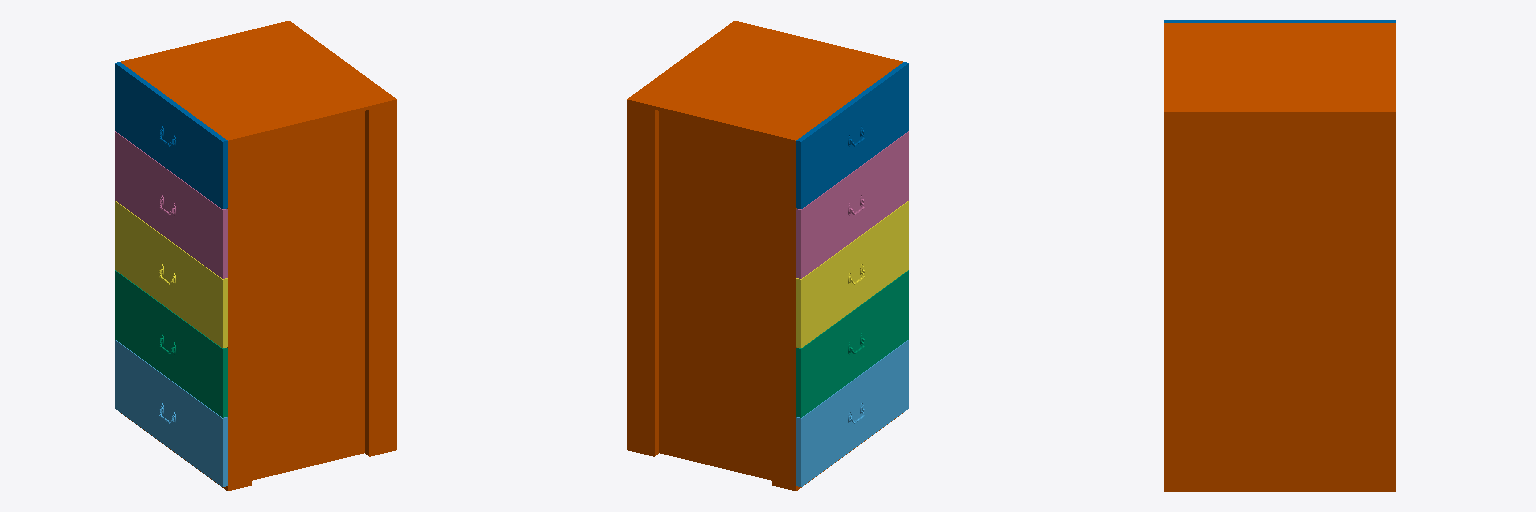
--- What the picture shows (computed from the rendered views, not written in the file) ---
Views: 3 orthographic renders of the robot side by side, from view 1: azimuth 30°, elevation 25°; view 2: azimuth 150°, elevation 25°; view 3: azimuth 270°, elevation 25°.
Model partnet_b50c25e6b5447714e90f8ac2c1271ce3 with 7 links and 6 joints (5 prismatic, 1 fixed), rooted at base, posed every joint at zero.
Links seen in each view (by area): view 1: link_4, link_3, link_5, link_0, link_2, link_1; view 2: link_4, link_3, link_5, link_0, link_2, link_1; view 3: link_4, link_3.
Boxes of the visible links, x1=… form: link_4: x1=121, y1=21, x2=396, y2=490; link_3: x1=115, y1=62, x2=227, y2=208; link_5: x1=115, y1=131, x2=227, y2=278; link_0: x1=115, y1=340, x2=227, y2=486; link_2: x1=115, y1=201, x2=227, y2=347; link_1: x1=115, y1=270, x2=227, y2=417; link_4: x1=627, y1=21, x2=902, y2=490; link_3: x1=796, y1=62, x2=908, y2=208; link_5: x1=796, y1=131, x2=908, y2=278; link_0: x1=796, y1=340, x2=908, y2=486; link_2: x1=796, y1=201, x2=908, y2=347; link_1: x1=796, y1=270, x2=908, y2=417; link_4: x1=1164, y1=23, x2=1395, y2=491; link_3: x1=1164, y1=20, x2=1395, y2=22.
Size in the robot's own frame: 0.8718 by 0.9086 by 1.63 metres.
66 mesh visuals loaded from 66 distinct referenced files (66 OBJ).

The robot description file, URDF, robot "partnet_b50c25e6b5447714e90f8ac2c1271ce3":
<?xml version="1.0" ?>
<robot name="partnet_b50c25e6b5447714e90f8ac2c1271ce3">
	<link name="base"/>
	<link name="link_0">
		<visual name="drawer_front-51">
			<origin xyz="0 0 0"/>
			<geometry>
				<mesh filename="package://objects_description/storage2/textured_objs/original-62.obj"/>
			</geometry>
		</visual>
		<visual name="drawer_front-51">
			<origin xyz="0 0 0"/>
			<geometry>
				<mesh filename="package://objects_description/storage2/textured_objs/original-58.obj"/>
			</geometry>
		</visual>
		<visual name="drawer_front-51">
			<origin xyz="0 0 0"/>
			<geometry>
				<mesh filename="package://objects_description/storage2/textured_objs/original-59.obj"/>
			</geometry>
		</visual>
		<visual name="drawer_side-52">
			<origin xyz="0 0 0"/>
			<geometry>
				<mesh filename="package://objects_description/storage2/textured_objs/original-63.obj"/>
			</geometry>
		</visual>
		<visual name="drawer_side-53">
			<origin xyz="0 0 0"/>
			<geometry>
				<mesh filename="package://objects_description/storage2/textured_objs/original-60.obj"/>
			</geometry>
		</visual>
		<visual name="drawer_back-54">
			<origin xyz="0 0 0"/>
			<geometry>
				<mesh filename="package://objects_description/storage2/textured_objs/original-61.obj"/>
			</geometry>
		</visual>
		<visual name="drawer_bottom-55">
			<origin xyz="0 0 0"/>
			<geometry>
				<mesh filename="package://objects_description/storage2/textured_objs/original-64.obj"/>
			</geometry>
		</visual>
		<visual name="handle-48">
			<origin xyz="0 0 0"/>
			<geometry>
				<mesh filename="package://objects_description/storage2/textured_objs/original-78.obj"/>
			</geometry>
		</visual>
		<visual name="handle-48">
			<origin xyz="0 0 0"/>
			<geometry>
				<mesh filename="package://objects_description/storage2/textured_objs/original-79.obj"/>
			</geometry>
		</visual>
		<collision>
			<origin xyz="0 0 0"/>
			<geometry>
				<mesh filename="package://objects_description/storage2/textured_objs/original-62.obj"/>
			</geometry>
		</collision>
		<collision>
			<origin xyz="0 0 0"/>
			<geometry>
				<mesh filename="package://objects_description/storage2/textured_objs/original-58.obj"/>
			</geometry>
		</collision>
		<collision>
			<origin xyz="0 0 0"/>
			<geometry>
				<mesh filename="package://objects_description/storage2/textured_objs/original-59.obj"/>
			</geometry>
		</collision>
		<collision>
			<origin xyz="0 0 0"/>
			<geometry>
				<mesh filename="package://objects_description/storage2/textured_objs/original-63.obj"/>
			</geometry>
		</collision>
		<collision>
			<origin xyz="0 0 0"/>
			<geometry>
				<mesh filename="package://objects_description/storage2/textured_objs/original-60.obj"/>
			</geometry>
		</collision>
		<collision>
			<origin xyz="0 0 0"/>
			<geometry>
				<mesh filename="package://objects_description/storage2/textured_objs/original-61.obj"/>
			</geometry>
		</collision>
		<collision>
			<origin xyz="0 0 0"/>
			<geometry>
				<mesh filename="package://objects_description/storage2/textured_objs/original-64.obj"/>
			</geometry>
		</collision>
		<collision>
			<origin xyz="0 0 0"/>
			<geometry>
				<mesh filename="package://objects_description/storage2/textured_objs/original-78.obj"/>
			</geometry>
		</collision>
		<collision>
			<origin xyz="0 0 0"/>
			<geometry>
				<mesh filename="package://objects_description/storage2/textured_objs/original-79.obj"/>
			</geometry>
		</collision>
	</link>
	<joint name="joint_0" type="prismatic">
		<origin xyz="0 0 0"/>
		<axis xyz="0 0 1"/>
		<child link="link_0"/>
		<parent link="link_4"/>
		<limit lower="0" upper="0.5"/>
	</joint>
	<link name="link_1">
		<visual name="drawer_front-42">
			<origin xyz="0 0 0"/>
			<geometry>
				<mesh filename="package://objects_description/storage2/textured_objs/original-54.obj"/>
			</geometry>
		</visual>
		<visual name="drawer_front-42">
			<origin xyz="0 0 0"/>
			<geometry>
				<mesh filename="package://objects_description/storage2/textured_objs/original-50.obj"/>
			</geometry>
		</visual>
		<visual name="drawer_front-42">
			<origin xyz="0 0 0"/>
			<geometry>
				<mesh filename="package://objects_description/storage2/textured_objs/original-51.obj"/>
			</geometry>
		</visual>
		<visual name="drawer_side-43">
			<origin xyz="0 0 0"/>
			<geometry>
				<mesh filename="package://objects_description/storage2/textured_objs/original-55.obj"/>
			</geometry>
		</visual>
		<visual name="drawer_side-44">
			<origin xyz="0 0 0"/>
			<geometry>
				<mesh filename="package://objects_description/storage2/textured_objs/original-52.obj"/>
			</geometry>
		</visual>
		<visual name="drawer_back-45">
			<origin xyz="0 0 0"/>
			<geometry>
				<mesh filename="package://objects_description/storage2/textured_objs/original-53.obj"/>
			</geometry>
		</visual>
		<visual name="drawer_bottom-46">
			<origin xyz="0 0 0"/>
			<geometry>
				<mesh filename="package://objects_description/storage2/textured_objs/original-56.obj"/>
			</geometry>
		</visual>
		<visual name="handle-39">
			<origin xyz="0 0 0"/>
			<geometry>
				<mesh filename="package://objects_description/storage2/textured_objs/original-75.obj"/>
			</geometry>
		</visual>
		<visual name="handle-39">
			<origin xyz="0 0 0"/>
			<geometry>
				<mesh filename="package://objects_description/storage2/textured_objs/original-76.obj"/>
			</geometry>
		</visual>
		<visual name="drawer_rails-40">
			<origin xyz="0 0 0"/>
			<geometry>
				<mesh filename="package://objects_description/storage2/textured_objs/original-37.obj"/>
			</geometry>
		</visual>
		<visual name="drawer_rails-41">
			<origin xyz="0 0 0"/>
			<geometry>
				<mesh filename="package://objects_description/storage2/textured_objs/original-25.obj"/>
			</geometry>
		</visual>
		<collision>
			<origin xyz="0 0 0"/>
			<geometry>
				<mesh filename="package://objects_description/storage2/textured_objs/original-54.obj"/>
			</geometry>
		</collision>
		<collision>
			<origin xyz="0 0 0"/>
			<geometry>
				<mesh filename="package://objects_description/storage2/textured_objs/original-50.obj"/>
			</geometry>
		</collision>
		<collision>
			<origin xyz="0 0 0"/>
			<geometry>
				<mesh filename="package://objects_description/storage2/textured_objs/original-51.obj"/>
			</geometry>
		</collision>
		<collision>
			<origin xyz="0 0 0"/>
			<geometry>
				<mesh filename="package://objects_description/storage2/textured_objs/original-55.obj"/>
			</geometry>
		</collision>
		<collision>
			<origin xyz="0 0 0"/>
			<geometry>
				<mesh filename="package://objects_description/storage2/textured_objs/original-52.obj"/>
			</geometry>
		</collision>
		<collision>
			<origin xyz="0 0 0"/>
			<geometry>
				<mesh filename="package://objects_description/storage2/textured_objs/original-53.obj"/>
			</geometry>
		</collision>
		<collision>
			<origin xyz="0 0 0"/>
			<geometry>
				<mesh filename="package://objects_description/storage2/textured_objs/original-56.obj"/>
			</geometry>
		</collision>
		<collision>
			<origin xyz="0 0 0"/>
			<geometry>
				<mesh filename="package://objects_description/storage2/textured_objs/original-75.obj"/>
			</geometry>
		</collision>
		<collision>
			<origin xyz="0 0 0"/>
			<geometry>
				<mesh filename="package://objects_description/storage2/textured_objs/original-76.obj"/>
			</geometry>
		</collision>
		<collision>
			<origin xyz="0 0 0"/>
			<geometry>
				<mesh filename="package://objects_description/storage2/textured_objs/original-37.obj"/>
			</geometry>
		</collision>
		<collision>
			<origin xyz="0 0 0"/>
			<geometry>
				<mesh filename="package://objects_description/storage2/textured_objs/original-25.obj"/>
			</geometry>
		</collision>
	</link>
	<joint name="joint_1" type="prismatic">
		<origin xyz="0 0 0"/>
		<axis xyz="0 0 1"/>
		<child link="link_1"/>
		<parent link="link_4"/>
		<limit lower="0" upper="0.5"/>
	</joint>
	<link name="link_2">
		<visual name="drawer_front-33">
			<origin xyz="0 0 0"/>
			<geometry>
				<mesh filename="package://objects_description/storage2/textured_objs/original-46.obj"/>
			</geometry>
		</visual>
		<visual name="drawer_front-33">
			<origin xyz="0 0 0"/>
			<geometry>
				<mesh filename="package://objects_description/storage2/textured_objs/original-43.obj"/>
			</geometry>
		</visual>
		<visual name="drawer_front-33">
			<origin xyz="0 0 0"/>
			<geometry>
				<mesh filename="package://objects_description/storage2/textured_objs/original-42.obj"/>
			</geometry>
		</visual>
		<visual name="drawer_side-34">
			<origin xyz="0 0 0"/>
			<geometry>
				<mesh filename="package://objects_description/storage2/textured_objs/original-47.obj"/>
			</geometry>
		</visual>
		<visual name="drawer_side-35">
			<origin xyz="0 0 0"/>
			<geometry>
				<mesh filename="package://objects_description/storage2/textured_objs/original-44.obj"/>
			</geometry>
		</visual>
		<visual name="drawer_back-36">
			<origin xyz="0 0 0"/>
			<geometry>
				<mesh filename="package://objects_description/storage2/textured_objs/original-45.obj"/>
			</geometry>
		</visual>
		<visual name="drawer_bottom-37">
			<origin xyz="0 0 0"/>
			<geometry>
				<mesh filename="package://objects_description/storage2/textured_objs/original-48.obj"/>
			</geometry>
		</visual>
		<visual name="handle-30">
			<origin xyz="0 0 0"/>
			<geometry>
				<mesh filename="package://objects_description/storage2/textured_objs/original-72.obj"/>
			</geometry>
		</visual>
		<visual name="handle-30">
			<origin xyz="0 0 0"/>
			<geometry>
				<mesh filename="package://objects_description/storage2/textured_objs/original-73.obj"/>
			</geometry>
		</visual>
		<visual name="drawer_rails-31">
			<origin xyz="0 0 0"/>
			<geometry>
				<mesh filename="package://objects_description/storage2/textured_objs/original-38.obj"/>
			</geometry>
		</visual>
		<visual name="drawer_rails-32">
			<origin xyz="0 0 0"/>
			<geometry>
				<mesh filename="package://objects_description/storage2/textured_objs/original-26.obj"/>
			</geometry>
		</visual>
		<collision>
			<origin xyz="0 0 0"/>
			<geometry>
				<mesh filename="package://objects_description/storage2/textured_objs/original-46.obj"/>
			</geometry>
		</collision>
		<collision>
			<origin xyz="0 0 0"/>
			<geometry>
				<mesh filename="package://objects_description/storage2/textured_objs/original-43.obj"/>
			</geometry>
		</collision>
		<collision>
			<origin xyz="0 0 0"/>
			<geometry>
				<mesh filename="package://objects_description/storage2/textured_objs/original-42.obj"/>
			</geometry>
		</collision>
		<collision>
			<origin xyz="0 0 0"/>
			<geometry>
				<mesh filename="package://objects_description/storage2/textured_objs/original-47.obj"/>
			</geometry>
		</collision>
		<collision>
			<origin xyz="0 0 0"/>
			<geometry>
				<mesh filename="package://objects_description/storage2/textured_objs/original-44.obj"/>
			</geometry>
		</collision>
		<collision>
			<origin xyz="0 0 0"/>
			<geometry>
				<mesh filename="package://objects_description/storage2/textured_objs/original-45.obj"/>
			</geometry>
		</collision>
		<collision>
			<origin xyz="0 0 0"/>
			<geometry>
				<mesh filename="package://objects_description/storage2/textured_objs/original-48.obj"/>
			</geometry>
		</collision>
		<collision>
			<origin xyz="0 0 0"/>
			<geometry>
				<mesh filename="package://objects_description/storage2/textured_objs/original-72.obj"/>
			</geometry>
		</collision>
		<collision>
			<origin xyz="0 0 0"/>
			<geometry>
				<mesh filename="package://objects_description/storage2/textured_objs/original-73.obj"/>
			</geometry>
		</collision>
		<collision>
			<origin xyz="0 0 0"/>
			<geometry>
				<mesh filename="package://objects_description/storage2/textured_objs/original-38.obj"/>
			</geometry>
		</collision>
		<collision>
			<origin xyz="0 0 0"/>
			<geometry>
				<mesh filename="package://objects_description/storage2/textured_objs/original-26.obj"/>
			</geometry>
		</collision>
	</link>
	<joint name="joint_2" type="prismatic">
		<origin xyz="0 0 0"/>
		<axis xyz="0 0 1"/>
		<child link="link_2"/>
		<parent link="link_4"/>
		<limit lower="0" upper="0.5"/>
	</joint>
	<link name="link_3">
		<visual name="drawer_front-10">
			<origin xyz="0 0 0"/>
			<geometry>
				<mesh filename="package://objects_description/storage2/textured_objs/original-5.obj"/>
			</geometry>
		</visual>
		<visual name="drawer_front-10">
			<origin xyz="0 0 0"/>
			<geometry>
				<mesh filename="package://objects_description/storage2/textured_objs/original-7.obj"/>
			</geometry>
		</visual>
		<visual name="drawer_front-10">
			<origin xyz="0 0 0"/>
			<geometry>
				<mesh filename="package://objects_description/storage2/textured_objs/original-3.obj"/>
			</geometry>
		</visual>
		<visual name="drawer_side-11">
			<origin xyz="0 0 0"/>
			<geometry>
				<mesh filename="package://objects_description/storage2/textured_objs/original-6.obj"/>
			</geometry>
		</visual>
		<visual name="drawer_side-12">
			<origin xyz="0 0 0"/>
			<geometry>
				<mesh filename="package://objects_description/storage2/textured_objs/original-8.obj"/>
			</geometry>
		</visual>
		<visual name="drawer_back-13">
			<origin xyz="0 0 0"/>
			<geometry>
				<mesh filename="package://objects_description/storage2/textured_objs/original-4.obj"/>
			</geometry>
		</visual>
		<visual name="drawer_bottom-14">
			<origin xyz="0 0 0"/>
			<geometry>
				<mesh filename="package://objects_description/storage2/textured_objs/original-10.obj"/>
			</geometry>
		</visual>
		<visual name="drawer_bottom-14">
			<origin xyz="0 0 0"/>
			<geometry>
				<mesh filename="package://objects_description/storage2/textured_objs/original-2.obj"/>
			</geometry>
		</visual>
		<visual name="handle-9">
			<origin xyz="0 0 0"/>
			<geometry>
				<mesh filename="package://objects_description/storage2/textured_objs/original-66.obj"/>
			</geometry>
		</visual>
		<visual name="handle-9">
			<origin xyz="0 0 0"/>
			<geometry>
				<mesh filename="package://objects_description/storage2/textured_objs/original-67.obj"/>
			</geometry>
		</visual>
		<visual name="drawer_rails-22">
			<origin xyz="0 0 0"/>
			<geometry>
				<mesh filename="package://objects_description/storage2/textured_objs/original-40.obj"/>
			</geometry>
		</visual>
		<visual name="drawer_rails-23">
			<origin xyz="0 0 0"/>
			<geometry>
				<mesh filename="package://objects_description/storage2/textured_objs/original-28.obj"/>
			</geometry>
		</visual>
		<visual name="other_leaf-25">
			<origin xyz="0 0 0"/>
			<geometry>
				<mesh filename="package://objects_description/storage2/textured_objs/original-9.obj"/>
			</geometry>
		</visual>
		<collision>
			<origin xyz="0 0 0"/>
			<geometry>
				<mesh filename="package://objects_description/storage2/textured_objs/original-5.obj"/>
			</geometry>
		</collision>
		<collision>
			<origin xyz="0 0 0"/>
			<geometry>
				<mesh filename="package://objects_description/storage2/textured_objs/original-7.obj"/>
			</geometry>
		</collision>
		<collision>
			<origin xyz="0 0 0"/>
			<geometry>
				<mesh filename="package://objects_description/storage2/textured_objs/original-3.obj"/>
			</geometry>
		</collision>
		<collision>
			<origin xyz="0 0 0"/>
			<geometry>
				<mesh filename="package://objects_description/storage2/textured_objs/original-6.obj"/>
			</geometry>
		</collision>
		<collision>
			<origin xyz="0 0 0"/>
			<geometry>
				<mesh filename="package://objects_description/storage2/textured_objs/original-8.obj"/>
			</geometry>
		</collision>
		<collision>
			<origin xyz="0 0 0"/>
			<geometry>
				<mesh filename="package://objects_description/storage2/textured_objs/original-4.obj"/>
			</geometry>
		</collision>
		<collision>
			<origin xyz="0 0 0"/>
			<geometry>
				<mesh filename="package://objects_description/storage2/textured_objs/original-10.obj"/>
			</geometry>
		</collision>
		<collision>
			<origin xyz="0 0 0"/>
			<geometry>
				<mesh filename="package://objects_description/storage2/textured_objs/original-2.obj"/>
			</geometry>
		</collision>
		<collision>
			<origin xyz="0 0 0"/>
			<geometry>
				<mesh filename="package://objects_description/storage2/textured_objs/original-66.obj"/>
			</geometry>
		</collision>
		<collision>
			<origin xyz="0 0 0"/>
			<geometry>
				<mesh filename="package://objects_description/storage2/textured_objs/original-67.obj"/>
			</geometry>
		</collision>
		<collision>
			<origin xyz="0 0 0"/>
			<geometry>
				<mesh filename="package://objects_description/storage2/textured_objs/original-40.obj"/>
			</geometry>
		</collision>
		<collision>
			<origin xyz="0 0 0"/>
			<geometry>
				<mesh filename="package://objects_description/storage2/textured_objs/original-28.obj"/>
			</geometry>
		</collision>
		<collision>
			<origin xyz="0 0 0"/>
			<geometry>
				<mesh filename="package://objects_description/storage2/textured_objs/original-9.obj"/>
			</geometry>
		</collision>
	</link>
	<joint name="joint_3" type="prismatic">
		<origin xyz="0 0 0"/>
		<axis xyz="0 0 1"/>
		<child link="link_3"/>
		<parent link="link_4"/>
		<limit lower="0" upper="0.5"/>
	</joint>
	<link name="link_4">
		<visual name="vertical_side_panel-56">
			<origin xyz="0 0 0"/>
			<geometry>
				<mesh filename="package://objects_description/storage2/textured_objs/original-29.obj"/>
			</geometry>
		</visual>
		<visual name="vertical_side_panel-57">
			<origin xyz="0 0 0"/>
			<geometry>
				<mesh filename="package://objects_description/storage2/textured_objs/original-20.obj"/>
			</geometry>
		</visual>
		<visual name="back_panel-58">
			<origin xyz="0 0 0"/>
			<geometry>
				<mesh filename="package://objects_description/storage2/textured_objs/original-31.obj"/>
			</geometry>
		</visual>
		<visual name="top_panel-59">
			<origin xyz="0 0 0"/>
			<geometry>
				<mesh filename="package://objects_description/storage2/textured_objs/original-30.obj"/>
			</geometry>
		</visual>
		<visual name="frame_vertical_bar-60">
			<origin xyz="0 0 0"/>
			<geometry>
				<mesh filename="package://objects_description/storage2/textured_objs/original-35.obj"/>
			</geometry>
		</visual>
		<visual name="frame_vertical_bar-61">
			<origin xyz="0 0 0"/>
			<geometry>
				<mesh filename="package://objects_description/storage2/textured_objs/original-22.obj"/>
			</geometry>
		</visual>
		<visual name="frame_horizontal_bar-62">
			<origin xyz="0 0 0"/>
			<geometry>
				<mesh filename="package://objects_description/storage2/textured_objs/original-36.obj"/>
			</geometry>
		</visual>
		<visual name="frame_horizontal_bar-63">
			<origin xyz="0 0 0"/>
			<geometry>
				<mesh filename="package://objects_description/storage2/textured_objs/original-24.obj"/>
			</geometry>
		</visual>
		<visual name="frame_horizontal_bar-64">
			<origin xyz="0 0 0"/>
			<geometry>
				<mesh filename="package://objects_description/storage2/textured_objs/original-32.obj"/>
			</geometry>
		</visual>
		<visual name="frame_vertical_bar-65">
			<origin xyz="0 0 0"/>
			<geometry>
				<mesh filename="package://objects_description/storage2/textured_objs/original-34.obj"/>
			</geometry>
		</visual>
		<visual name="frame_vertical_bar-66">
			<origin xyz="0 0 0"/>
			<geometry>
				<mesh filename="package://objects_description/storage2/textured_objs/original-23.obj"/>
			</geometry>
		</visual>
		<visual name="drawer_rails-26">
			<origin xyz="0 0 0"/>
			<geometry>
				<mesh filename="package://objects_description/storage2/textured_objs/original-39.obj"/>
			</geometry>
		</visual>
		<visual name="drawer_rails-27">
			<origin xyz="0 0 0"/>
			<geometry>
				<mesh filename="package://objects_description/storage2/textured_objs/original-27.obj"/>
			</geometry>
		</visual>
		<collision>
			<origin xyz="0 0 0"/>
			<geometry>
				<mesh filename="package://objects_description/storage2/textured_objs/original-29.obj"/>
			</geometry>
		</collision>
		<collision>
			<origin xyz="0 0 0"/>
			<geometry>
				<mesh filename="package://objects_description/storage2/textured_objs/original-20.obj"/>
			</geometry>
		</collision>
		<collision>
			<origin xyz="0 0 0"/>
			<geometry>
				<mesh filename="package://objects_description/storage2/textured_objs/original-31.obj"/>
			</geometry>
		</collision>
		<collision>
			<origin xyz="0 0 0"/>
			<geometry>
				<mesh filename="package://objects_description/storage2/textured_objs/original-30.obj"/>
			</geometry>
		</collision>
		<collision>
			<origin xyz="0 0 0"/>
			<geometry>
				<mesh filename="package://objects_description/storage2/textured_objs/original-35.obj"/>
			</geometry>
		</collision>
		<collision>
			<origin xyz="0 0 0"/>
			<geometry>
				<mesh filename="package://objects_description/storage2/textured_objs/original-22.obj"/>
			</geometry>
		</collision>
		<collision>
			<origin xyz="0 0 0"/>
			<geometry>
				<mesh filename="package://objects_description/storage2/textured_objs/original-36.obj"/>
			</geometry>
		</collision>
		<collision>
			<origin xyz="0 0 0"/>
			<geometry>
				<mesh filename="package://objects_description/storage2/textured_objs/original-24.obj"/>
			</geometry>
		</collision>
		<collision>
			<origin xyz="0 0 0"/>
			<geometry>
				<mesh filename="package://objects_description/storage2/textured_objs/original-32.obj"/>
			</geometry>
		</collision>
		<collision>
			<origin xyz="0 0 0"/>
			<geometry>
				<mesh filename="package://objects_description/storage2/textured_objs/original-34.obj"/>
			</geometry>
		</collision>
		<collision>
			<origin xyz="0 0 0"/>
			<geometry>
				<mesh filename="package://objects_description/storage2/textured_objs/original-23.obj"/>
			</geometry>
		</collision>
		<collision>
			<origin xyz="0 0 0"/>
			<geometry>
				<mesh filename="package://objects_description/storage2/textured_objs/original-39.obj"/>
			</geometry>
		</collision>
		<collision>
			<origin xyz="0 0 0"/>
			<geometry>
				<mesh filename="package://objects_description/storage2/textured_objs/original-27.obj"/>
			</geometry>
		</collision>
	</link>
	<joint name="joint_4" type="fixed">
		<origin rpy="1.570796326794897 0 -1.570796326794897" xyz="0 0 0"/>
		<child link="link_4"/>
		<parent link="base"/>
	</joint>
	<link name="link_5">
		<visual name="handle-16">
			<origin xyz="0 0 0"/>
			<geometry>
				<mesh filename="package://objects_description/storage2/textured_objs/original-69.obj"/>
			</geometry>
		</visual>
		<visual name="handle-16">
			<origin xyz="0 0 0"/>
			<geometry>
				<mesh filename="package://objects_description/storage2/textured_objs/original-70.obj"/>
			</geometry>
		</visual>
		<visual name="drawer_front-17">
			<origin xyz="0 0 0"/>
			<geometry>
				<mesh filename="package://objects_description/storage2/textured_objs/original-16.obj"/>
			</geometry>
		</visual>
		<visual name="drawer_front-17">
			<origin xyz="0 0 0"/>
			<geometry>
				<mesh filename="package://objects_description/storage2/textured_objs/original-12.obj"/>
			</geometry>
		</visual>
		<visual name="drawer_front-17">
			<origin xyz="0 0 0"/>
			<geometry>
				<mesh filename="package://objects_description/storage2/textured_objs/original-13.obj"/>
			</geometry>
		</visual>
		<visual name="drawer_side-18">
			<origin xyz="0 0 0"/>
			<geometry>
				<mesh filename="package://objects_description/storage2/textured_objs/original-14.obj"/>
			</geometry>
		</visual>
		<visual name="drawer_side-19">
			<origin xyz="0 0 0"/>
			<geometry>
				<mesh filename="package://objects_description/storage2/textured_objs/original-17.obj"/>
			</geometry>
		</visual>
		<visual name="drawer_back-20">
			<origin xyz="0 0 0"/>
			<geometry>
				<mesh filename="package://objects_description/storage2/textured_objs/original-15.obj"/>
			</geometry>
		</visual>
		<visual name="drawer_bottom-21">
			<origin xyz="0 0 0"/>
			<geometry>
				<mesh filename="package://objects_description/storage2/textured_objs/original-18.obj"/>
			</geometry>
		</visual>
		<collision>
			<origin xyz="0 0 0"/>
			<geometry>
				<mesh filename="package://objects_description/storage2/textured_objs/original-69.obj"/>
			</geometry>
		</collision>
		<collision>
			<origin xyz="0 0 0"/>
			<geometry>
				<mesh filename="package://objects_description/storage2/textured_objs/original-70.obj"/>
			</geometry>
		</collision>
		<collision>
			<origin xyz="0 0 0"/>
			<geometry>
				<mesh filename="package://objects_description/storage2/textured_objs/original-16.obj"/>
			</geometry>
		</collision>
		<collision>
			<origin xyz="0 0 0"/>
			<geometry>
				<mesh filename="package://objects_description/storage2/textured_objs/original-12.obj"/>
			</geometry>
		</collision>
		<collision>
			<origin xyz="0 0 0"/>
			<geometry>
				<mesh filename="package://objects_description/storage2/textured_objs/original-13.obj"/>
			</geometry>
		</collision>
		<collision>
			<origin xyz="0 0 0"/>
			<geometry>
				<mesh filename="package://objects_description/storage2/textured_objs/original-14.obj"/>
			</geometry>
		</collision>
		<collision>
			<origin xyz="0 0 0"/>
			<geometry>
				<mesh filename="package://objects_description/storage2/textured_objs/original-17.obj"/>
			</geometry>
		</collision>
		<collision>
			<origin xyz="0 0 0"/>
			<geometry>
				<mesh filename="package://objects_description/storage2/textured_objs/original-15.obj"/>
			</geometry>
		</collision>
		<collision>
			<origin xyz="0 0 0"/>
			<geometry>
				<mesh filename="package://objects_description/storage2/textured_objs/original-18.obj"/>
			</geometry>
		</collision>
	</link>
	<joint name="joint_5" type="prismatic">
		<origin xyz="0 0 0"/>
		<axis xyz="0 0 1"/>
		<child link="link_5"/>
		<parent link="link_4"/>
		<limit lower="0" upper="0.52"/>
	</joint>
</robot>
